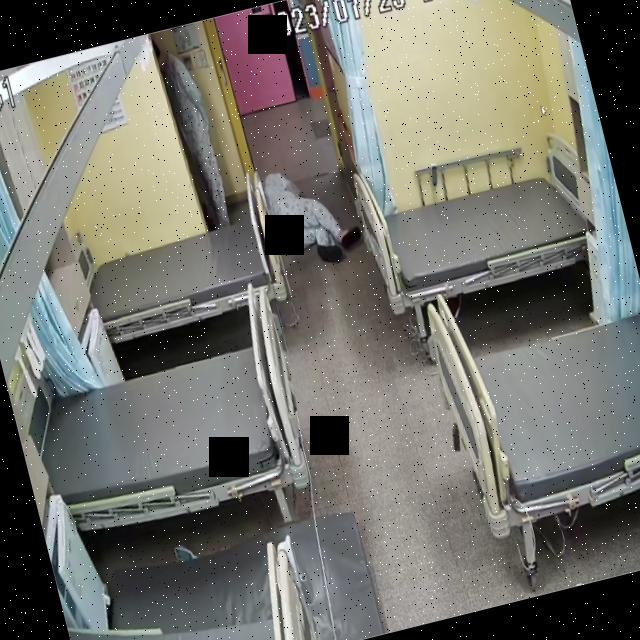bed: (418, 246, 640, 537), (23, 328, 315, 540), (354, 144, 610, 316), (80, 202, 288, 344)
fall: (257, 146, 369, 277)
patient: (152, 24, 234, 231), (259, 148, 366, 274)
stand: (150, 24, 234, 230)
